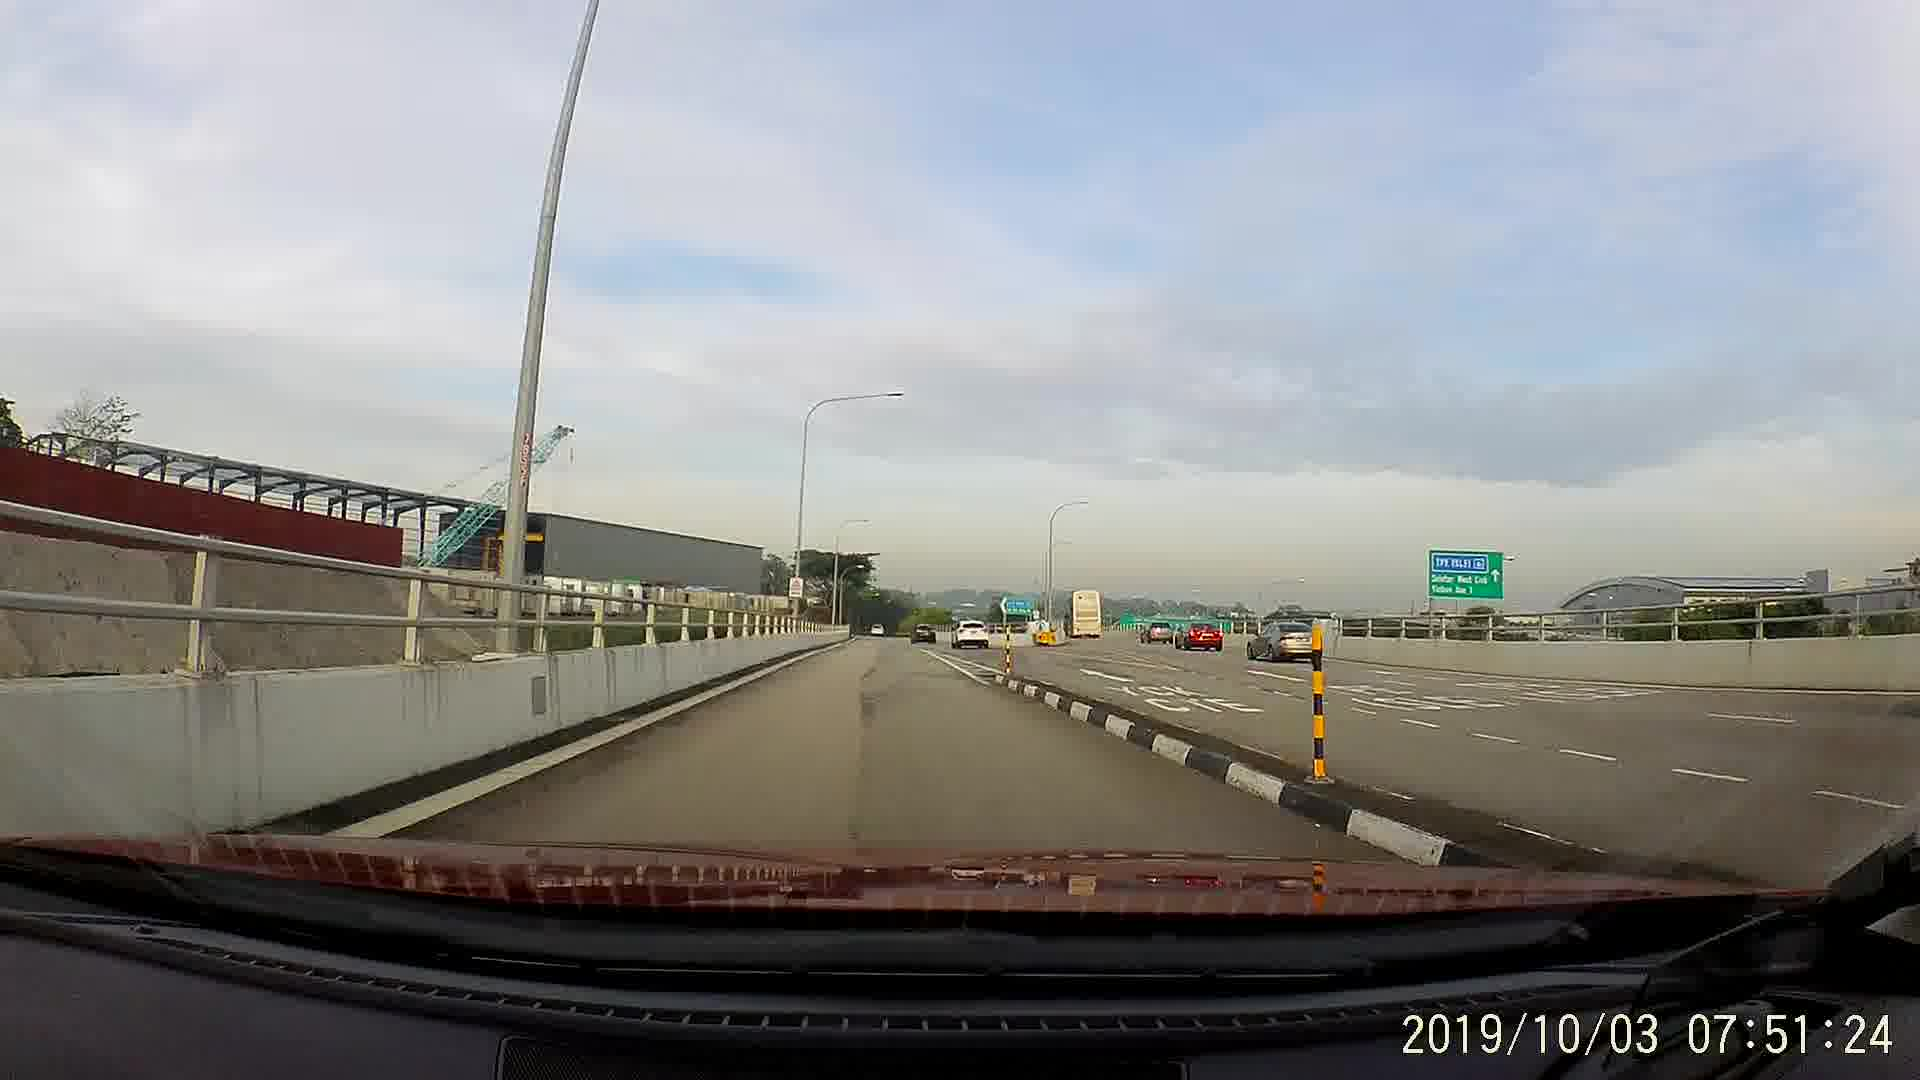bus: (1065, 584, 1102, 642)
car: (1244, 617, 1315, 665), (949, 612, 996, 651), (1179, 616, 1222, 655), (905, 617, 942, 650), (1139, 617, 1174, 646), (866, 617, 887, 640)
